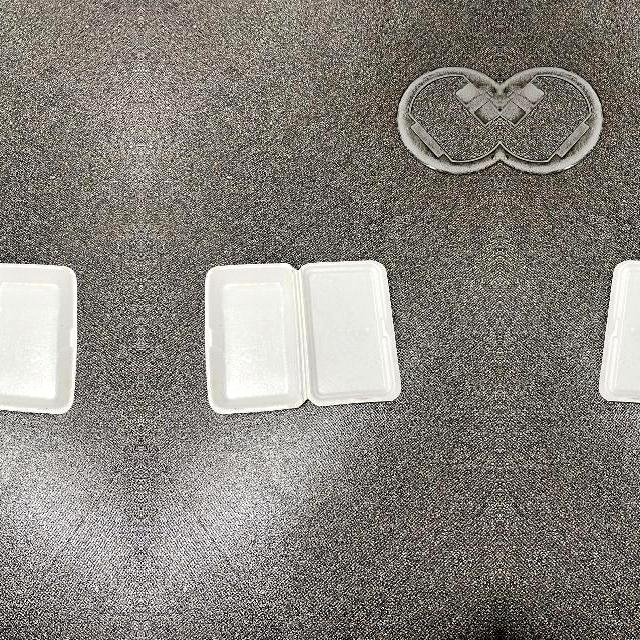Styrofoam: (202, 260, 402, 414), (204, 261, 400, 414), (0, 259, 77, 414), (0, 264, 76, 414), (596, 259, 640, 414)
